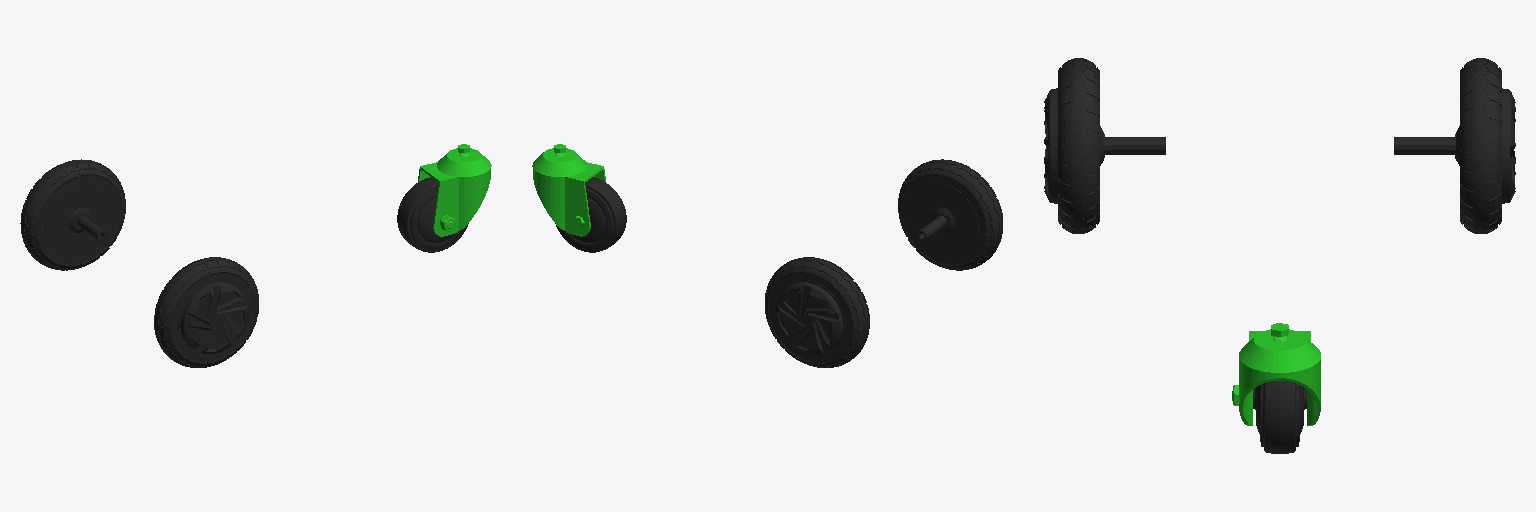
robot.urdf — my_robot:
<?xml version="1.0"?>
<robot name="my_robot">

<material name="green">
    <color rgba="0.2 0.8 0.2 1.0"/>
  </material>
<material name="black">
    <color rgba="0.2 0.2 0.2 1.0"/>
  </material>

  <link name="base_link"/>

    <link name="tractor_link">
        <visual>
        <geometry>
            <mesh filename="package://lognave_isaac/urdf/meshes/tractor.stl" scale="1.0 1.0 1.0"/>
        </geometry>
        <material name="green"/>
        </visual>
        <collision>
            <geometry>
                <mesh filename="package://lognave_isaac/urdf/meshes/tractor.stl" scale="1.0 1.0 1.0"/>
            </geometry>
        </collision>
        <inertial>
            <mass value="63.5"/>
                <inertia  ixx="5.308864583333333" ixy="0.0" ixz="0.0" 
                          iyy="5.993473958333333" iyz="0.0" 
                          izz="5.308864583333333"/>
        </inertial>
    </link>

    <joint name="tractor_joint" type="fixed">
        <parent link="base_link"/>
        <child link="tractor_link"/>
        <origin xyz="0 0 0" rpy="0 0 0"/>
    </joint>



   <!-- Left Rear Wheel -->

    <link name="left_rear_wheel_link">
        <visual>
        <geometry>
            <mesh filename="package://lognave_isaac/urdf/meshes/left_rear_wheel.stl"
                scale="1.0 1.0 1.0" />
        </geometry>
        <material name="black"/>
        </visual>
        <collision>
            <geometry>
                <mesh filename="package://lognave_isaac/urdf/meshes/left_rear_wheel.stl" scale="1.0 1.0 1.0"/>
            </geometry>
        </collision>
        <inertial>
            <mass value="1.0"/>
                <inertia ixx="0.00225" ixy="0.0" ixz="0.0" 
                         iyy="0.00225" iyz="0.0" 
                         izz="0.00225"/>
        </inertial>
    </link>

    <joint name="left_rear_wheel_joint" type="continuous">
        <origin xyz=" -0.3125 0.1 0.08" rpy="0 0 0" />
        <parent link="tractor_link" />
        <child  link="left_rear_wheel_link" />
        <axis xyz="0 1 0" />

        <calibration falling="0" rising="0" />
        <dynamics damping="0.00" friction="0.0" />
        <safety_controller
            k_position="0"
            k_velocity="0"
            soft_lower="0"
            soft_upper="0" />
    </joint>


   <!-- Right Rear Wheel -->

    <link name="right_rear_wheel_link">
        <visual>
        <geometry>
            <mesh filename="package://lognave_isaac/urdf/meshes/right_rear_wheel.stl"
                scale="1.0 1.0 1.0" />
        </geometry>
        <material name="black"/>
        </visual>
        <collision>
            <geometry>
                <mesh filename="package://lognave_isaac/urdf/meshes/right_rear_wheel.stl" scale="1.0 1.0 1.0"/>
            </geometry>
        </collision>
        <inertial>
            <mass value="1.0"/>
                <inertia ixx="0.00225" ixy="0.0" ixz="0.0" 
                         iyy="0.00225" iyz="0.0" 
                         izz="0.00225"/>
        </inertial>
    </link>

    <joint name="right_rear_wheel_joint" type="continuous">
        <origin xyz=" -0.3125 -0.1 0.08" rpy="0 0 0" />
        <parent link="tractor_link" />
        <child  link="right_rear_wheel_link" />
        <axis xyz="0 1 0" />

        <calibration falling="0" rising="0" />
        <dynamics damping="0.00" friction="0.0" />
        <safety_controller
            k_position="0"
            k_velocity="0"
            soft_lower="0"
            soft_upper="0" />
    </joint>


       <!-- Front fork Yaw -->

    <link name="frot_fork_link">
        <visual>
        <geometry>
            <mesh filename="package://lognave_isaac/urdf/meshes/front_fork.stl"
                scale="1.0 1.0 1.0" />
        </geometry>
        <material name="green"/>
        </visual>
        <collision>
            <geometry>
                <mesh filename="package://lognave_isaac/urdf/meshes/front_fork.stl" scale="1.0 1.0 1.0"/>
            </geometry>
        </collision>
        <inertial>
            <mass value="1.0"/>
                <inertia ixx="0.0010000000000000002" ixy="0.0" ixz="0.0" 
                         iyy="0.0010000000000000002" iyz="0.0" 
                         izz="0.0010000000000000002"/>
        </inertial>
    </link>

    <joint name="frot_fork_joint" type="revolute">
        <parent link="tractor_link"/>
        <child link="frot_fork_link"/>
        <origin xyz="0.182 0 0.124" rpy="0 0 0"/>
        <axis xyz="0 0 1"/>
        <limit effort="10.0" velocity="1.0" lower="-0.65" upper="0.65"/>
    </joint>


   <!-- Front Wheel -->

    <link name="front_wheel_link">
        <visual>
        <geometry>
            <mesh filename="package://lognave_isaac/urdf/meshes/front_wheel.stl"
                scale="1.0 1.0 1.0" />
        </geometry>
        <material name="black"/>
        </visual>
        <collision>
            <geometry>
                <mesh filename="package://lognave_isaac/urdf/meshes/front_wheel.stl" scale="1.0 1.0 1.0"/>
            </geometry>
        </collision>
        <inertial>
            <mass value="1.0"/>
                <inertia ixx="0.0010000000000000002" ixy="0.0" ixz="0.0" 
                         iyy="0.0010000000000000002" iyz="0.0" 
                         izz="0.0010000000000000002"/>
        </inertial>
    </link>

    <joint name="front_wheel_joint" type="continuous">
        <origin xyz=" -0.045 0.0 -0.077" rpy="0 0 0" />
        <parent link="frot_fork_link" />
        <child  link="front_wheel_link" />
        <axis xyz="0 1 0" />

        <calibration falling="0" rising="0" />
        <dynamics damping="0.00" friction="0.0" />
        <safety_controller
            k_position="0"
            k_velocity="0"
            soft_lower="0"
            soft_upper="0" />
    </joint>












</robot>

--- What the picture shows (computed from the rendered views, not written in the file) ---
3 views of the same robot in one strip: view 1: azimuth 30°, elevation 25°; view 2: azimuth 150°, elevation 25°; view 3: azimuth 270°, elevation 25° (orthographic).
Model my_robot with 6 links and 5 joints (1 revolute, 3 continuous, 1 fixed), rooted at base_link, posed all joints at 0.
Links seen in each view (by area): view 1: right_rear_wheel_link, left_rear_wheel_link, frot_fork_link, front_wheel_link; view 2: left_rear_wheel_link, right_rear_wheel_link, frot_fork_link, front_wheel_link; view 3: right_rear_wheel_link, left_rear_wheel_link, frot_fork_link, front_wheel_link.
Link boxes in pixels (box(x1,y1,x2,y2)): right_rear_wheel_link: box(154, 257, 258, 367); left_rear_wheel_link: box(20, 159, 125, 270); frot_fork_link: box(418, 144, 491, 236); front_wheel_link: box(397, 177, 468, 252); left_rear_wheel_link: box(765, 257, 869, 367); right_rear_wheel_link: box(898, 159, 1002, 270); frot_fork_link: box(532, 144, 605, 236); front_wheel_link: box(555, 177, 626, 252); right_rear_wheel_link: box(1044, 58, 1165, 233); left_rear_wheel_link: box(1394, 58, 1515, 233); frot_fork_link: box(1232, 323, 1320, 425); front_wheel_link: box(1253, 381, 1306, 453).
Bounding box of the posed robot: 0.609 × 0.4136 × 0.1609 m (x, y, z).
4 mesh visuals loaded from 5 distinct referenced files (4 binary STL); not drawn: 1 (reference not matched to a file when rendering).
